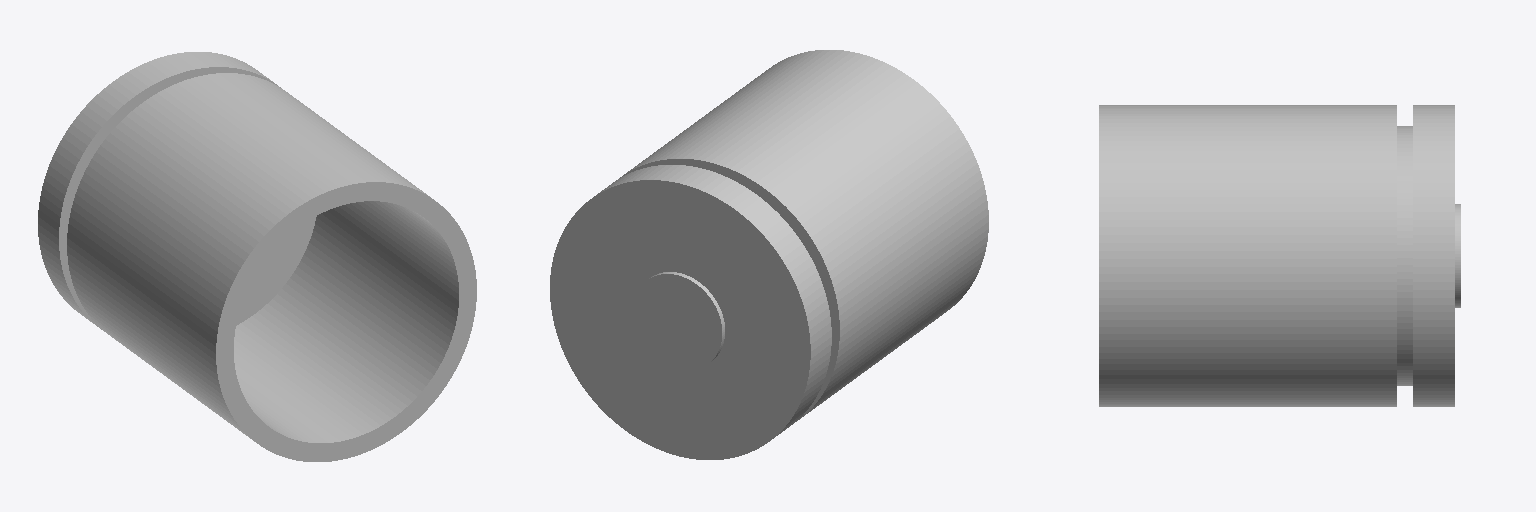
Rendered from ChonkyCase.obj.
3 views of the same model, side by side, from view 1: azimuth 30°, elevation 25°; view 2: azimuth 150°, elevation 25°; view 3: azimuth 270°, elevation 25° (orthographic).
Visible parts, largest first — view 1: Object.4, Object.1; view 2: Object.4, Object.1, Object.3; view 3: Object.4, Object.1, Object.2, Object.3.
Part boxes in pixels (left/top/right/bottom): Object.4: left=67, top=73, right=476, bottom=461; Object.1: left=38, top=52, right=280, bottom=329; Object.4: left=620, top=50, right=988, bottom=421; Object.1: left=550, top=165, right=831, bottom=459; Object.3: left=633, top=272, right=724, bottom=370; Object.4: left=1099, top=105, right=1396, bottom=406; Object.1: left=1413, top=105, right=1454, bottom=406; Object.2: left=1397, top=126, right=1412, bottom=385; Object.3: left=1455, top=204, right=1460, bottom=307.
Bounding box in the file's own units: 40 × 40 × 48.07.